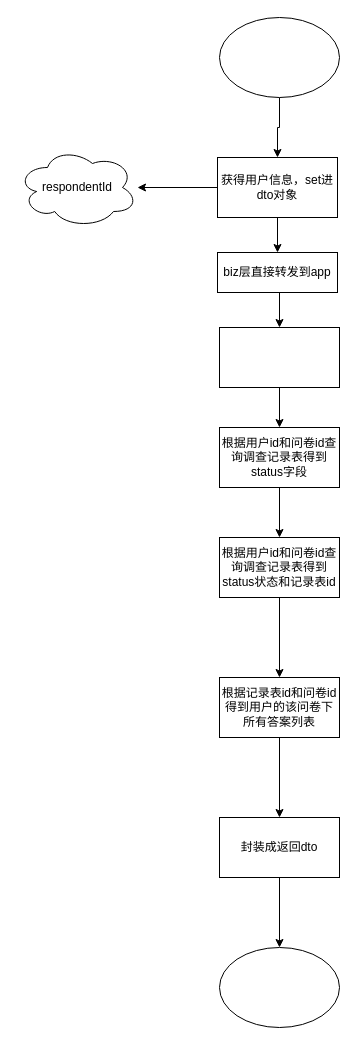
The diagram is 357 pixels wide and 1045 high, and some of its shapes have lost their labels. Here are the shapes that lost their labels. From the top down, the box of each, then its label:
(218, 16, 340, 98): 开始
(218, 326, 340, 388): 调用app层
(218, 946, 340, 1028): 结束
